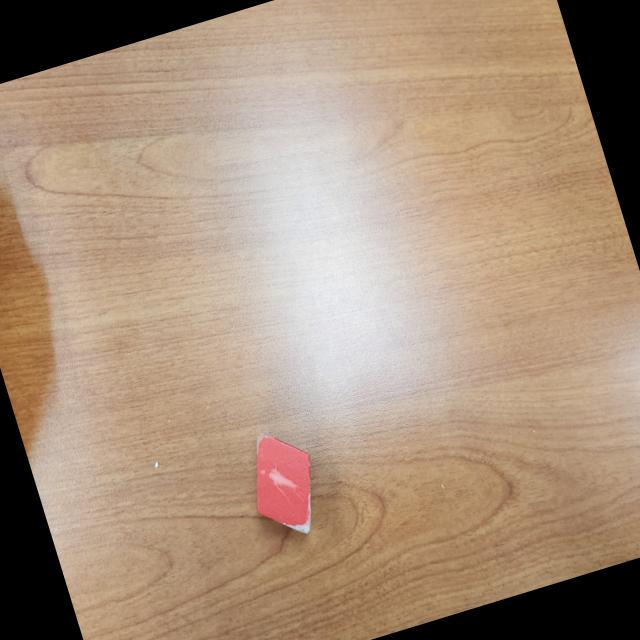broken: (235, 419, 331, 546)
